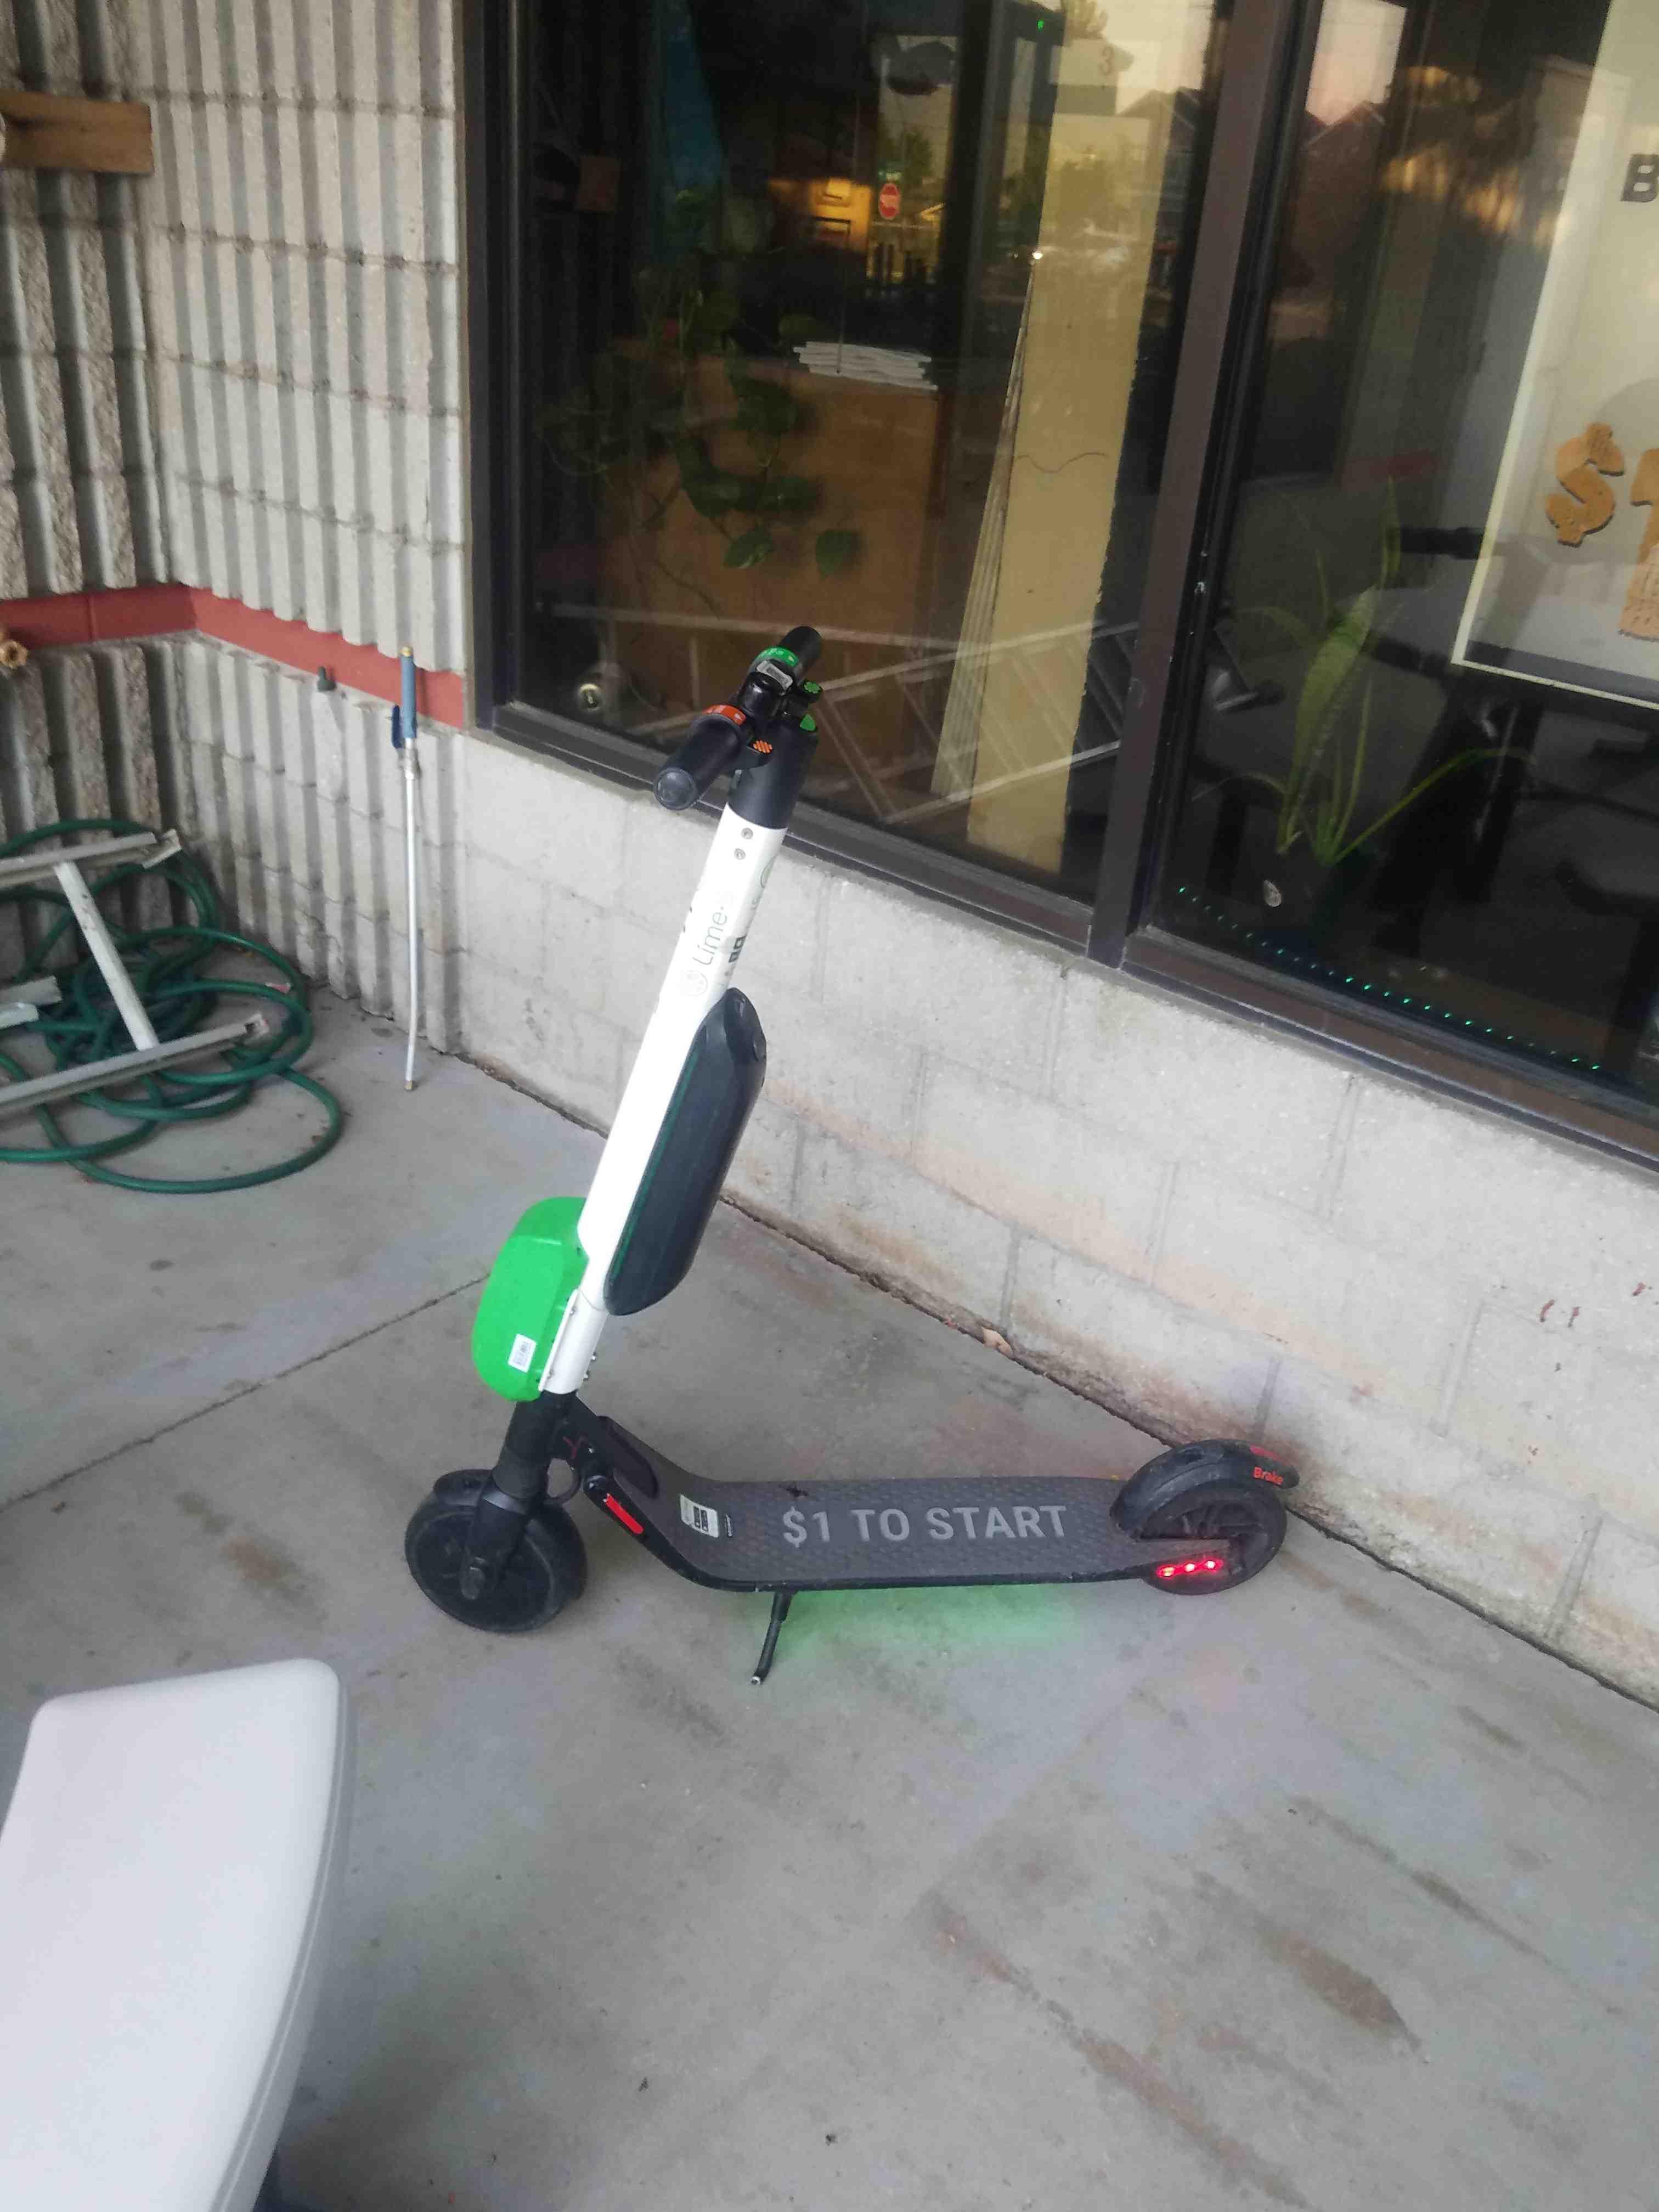scooter: (401, 538, 1330, 1669)
